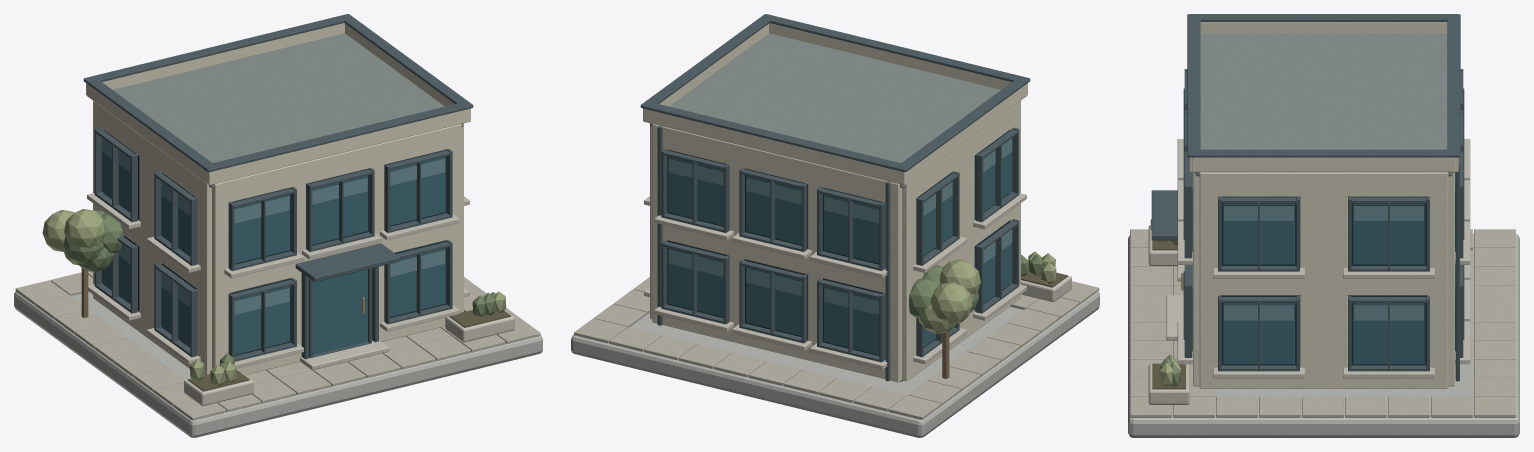
File: building.glb
3 renders of one model, left to right at view 1: azimuth 30°, elevation 25°; view 2: azimuth 150°, elevation 25°; view 3: azimuth 270°, elevation 25°, orthographic. The views are drawn at different scales.
Parts seen in each view (by area): view 1: Architecture, DoorMesh; view 2: Architecture; view 3: Architecture.
Boxes of the visible parts, x1,y1,x2,y2 form: Architecture: (14, 14, 542, 437); DoorMesh: (309, 268, 371, 358); Architecture: (571, 14, 1099, 437); Architecture: (1128, 14, 1519, 437).
Bounding box in the file's own units: 4.74 × 3.06 × 4.1.
Materials: 2 (1 with a texture image).
